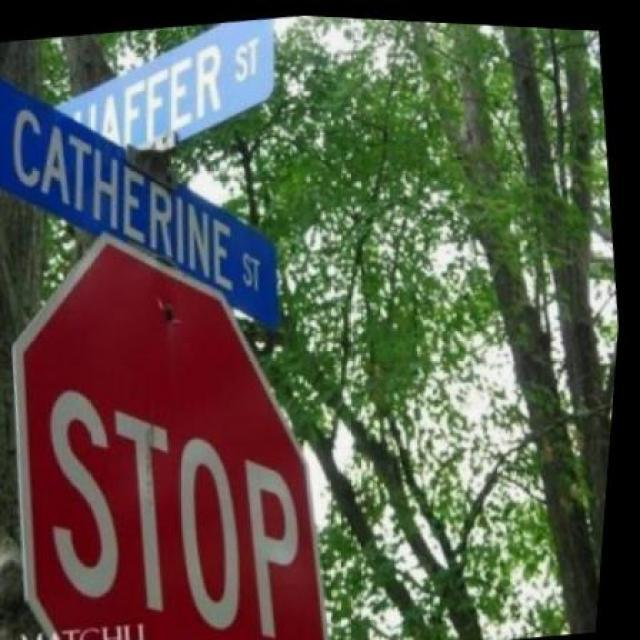stop_sign: (0, 193, 373, 640)
